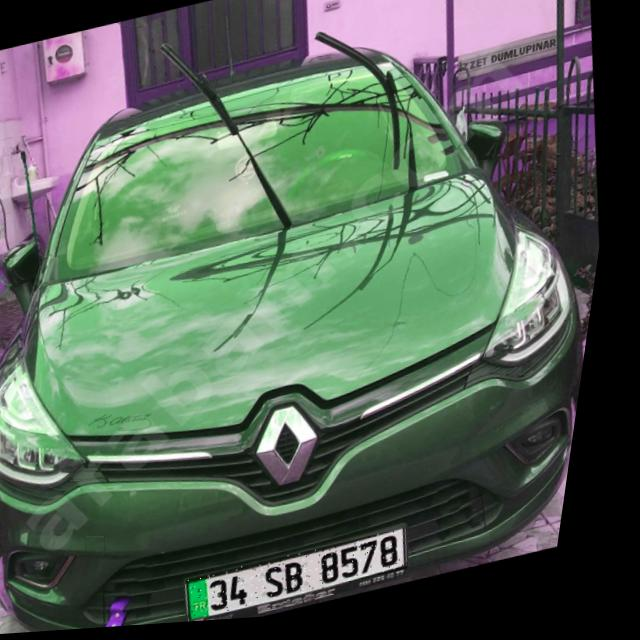license_plate: (199, 534, 429, 624)
